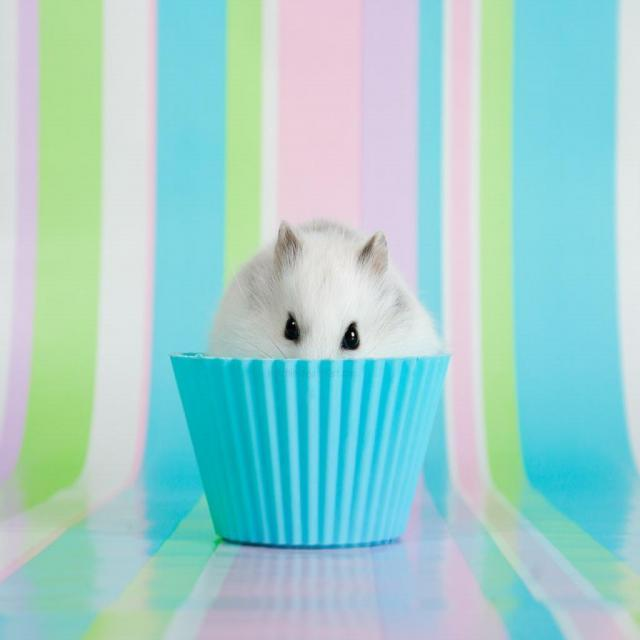rat: (206, 211, 444, 356)
